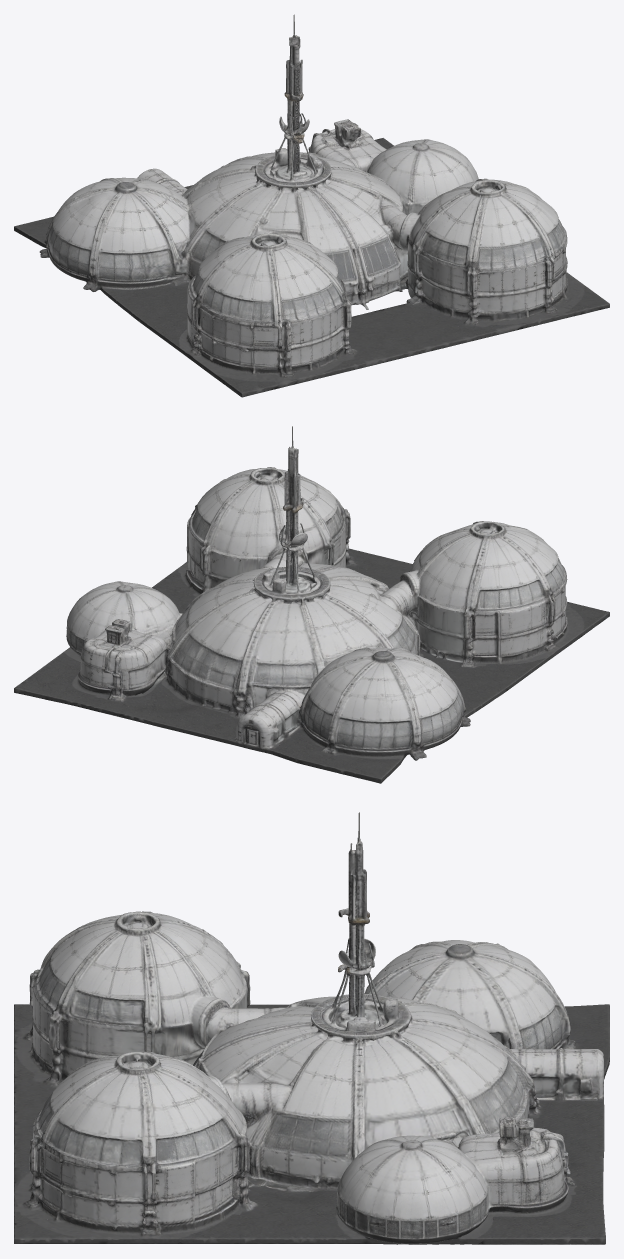
Rendered from lunarBase.glb.
3 renders of one model, top to bottom at view 1: azimuth 30°, elevation 25°; view 2: azimuth 150°, elevation 25°; view 3: azimuth 270°, elevation 25°, orthographic. The views are drawn at different scales.
Bounding box in the file's own units: 1.9 × 1.11 × 1.9.
Materials: 1 (1 with a texture image).
